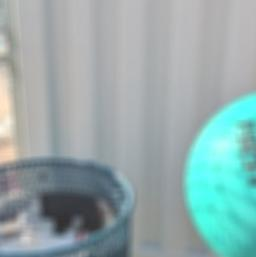algae: (181, 83, 256, 257)
